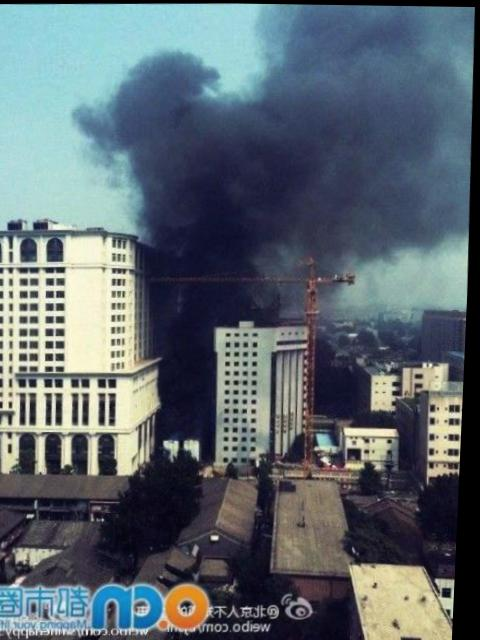smoke: (244, 3, 477, 256), (87, 56, 249, 234), (146, 248, 261, 318), (158, 322, 219, 444)
